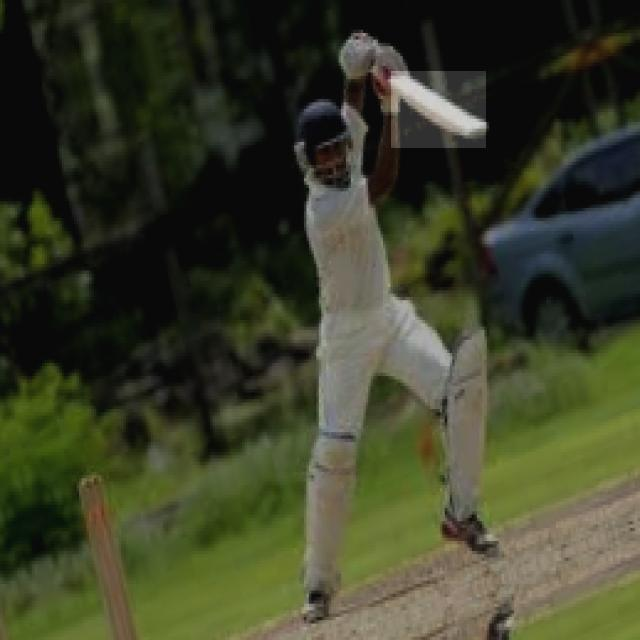bat: (389, 68, 489, 149)
toe: (458, 121, 493, 144)
